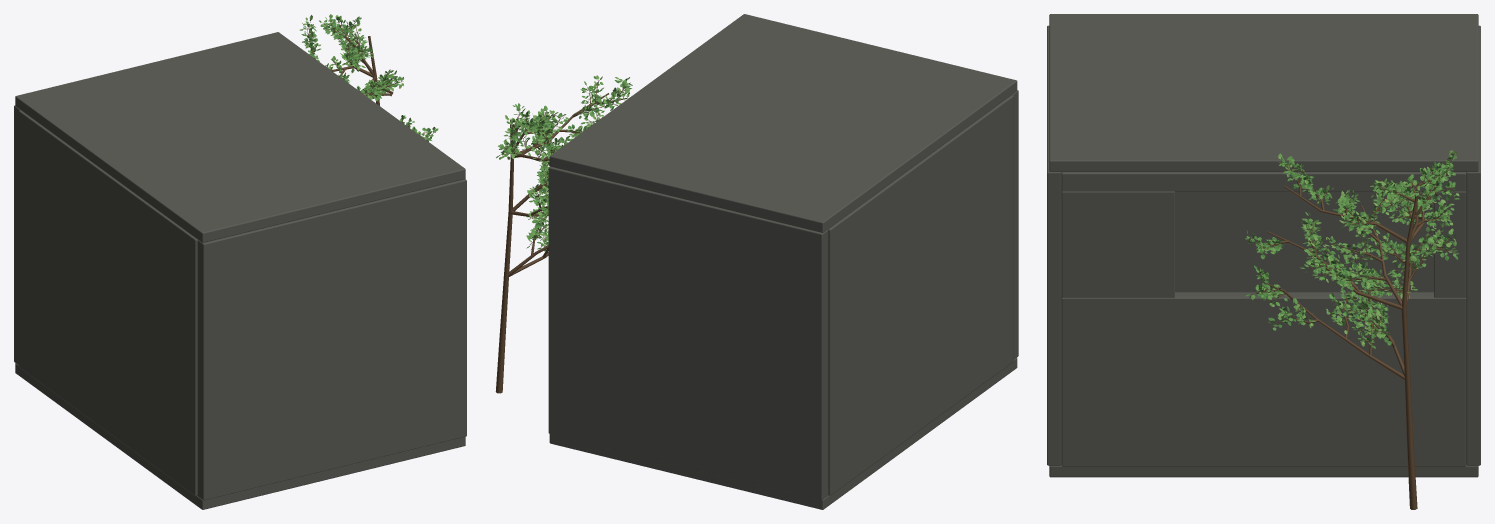
Rendered from leaflight-study.glb.
The picture shows the model from 3 angles, left to right: view 1: azimuth 30°, elevation 25°; view 2: azimuth 150°, elevation 25°; view 3: azimuth 270°, elevation 25°; orthographic projection. The views are drawn at different scales.
Visible parts, largest first — view 1: Wall_Front, Ceiling, Wall_Left, Floor, STW_Camphor_Leaves_1, Wall_Back, STW_Camphor_Leaves_0, STW_Camphor_Leaves_2; view 2: Wall_Back, Ceiling, Wall_Left, Floor, STW_Camphor_Leaves_1, STW_Camphor_Leaves_0, STW_Camphor_Trunk, Wall_Front, STW_Camphor_Leaves_2, STW_Camphor_Primary; view 3: Ceiling, WindowFrame_Below, Wall_Left, WindowFrame_Front, STW_Camphor_Leaves_1, WindowFrame_Above, Floor, Wall_Back, Wall_Front, STW_Camphor_Leaves_0, STW_Camphor_Leaves_2, WindowFrame_Back (+5 smaller).
Boxes of the visible parts, left/top/right/bottom form: Wall_Front: left=197, top=179, right=466, bottom=500; Ceiling: left=15, top=32, right=465, bottom=242; Wall_Left: left=18, top=110, right=197, bottom=496; Floor: left=15, top=363, right=465, bottom=509; STW_Camphor_Leaves_1: left=299, top=14, right=438, bottom=140; Wall_Back: left=14, top=105, right=20, bottom=364; STW_Camphor_Leaves_0: left=302, top=17, right=435, bottom=141; STW_Camphor_Leaves_2: left=302, top=15, right=431, bottom=139; Wall_Back: left=548, top=166, right=828, bottom=499; Ceiling: left=549, top=14, right=1017, bottom=232; Wall_Left: left=828, top=95, right=1013, bottom=495; Floor: left=549, top=357, right=1017, bottom=509; STW_Camphor_Leaves_1: left=499, top=76, right=630, bottom=251; STW_Camphor_Leaves_0: left=498, top=76, right=632, bottom=249; STW_Camphor_Trunk: left=495, top=119, right=513, bottom=393; Wall_Front: left=1012, top=90, right=1018, bottom=359; STW_Camphor_Leaves_2: left=496, top=75, right=629, bottom=241; STW_Camphor_Primary: left=508, top=93, right=608, bottom=276; Ceiling: left=1049, top=14, right=1478, bottom=171; WindowFrame_Below: left=1061, top=292, right=1466, bottom=466; Wall_Left: left=1175, top=191, right=1433, bottom=292; WindowFrame_Front: left=1061, top=191, right=1174, bottom=297; STW_Camphor_Leaves_1: left=1245, top=153, right=1459, bottom=349; WindowFrame_Above: left=1061, top=172, right=1466, bottom=191; Floor: left=1049, top=465, right=1478, bottom=477; Wall_Back: left=1466, top=25, right=1480, bottom=465; Wall_Front: left=1047, top=25, right=1061, bottom=465; STW_Camphor_Leaves_0: left=1249, top=152, right=1458, bottom=348; STW_Camphor_Leaves_2: left=1250, top=150, right=1459, bottom=346; WindowFrame_Back: left=1434, top=191, right=1466, bottom=297.
Bounding box in the file's own units: 11.25 × 9.25 × 10.72.
